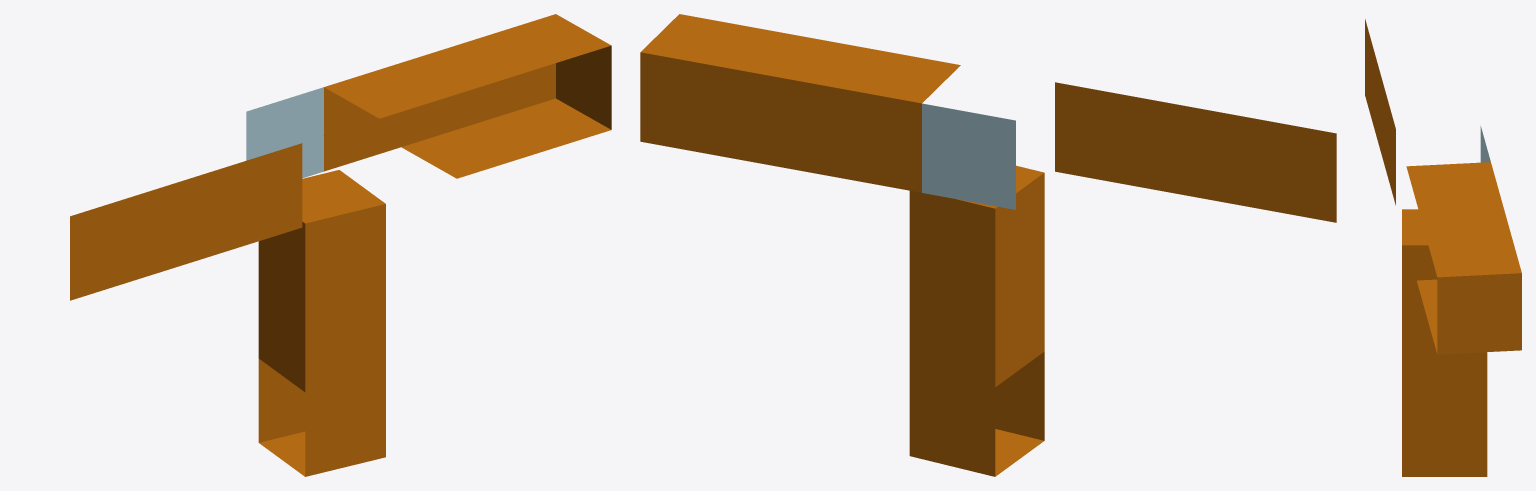
File: test_animation.obj
3 views of the same model, side by side, from view 1: azimuth 30°, elevation 25°; view 2: azimuth 150°, elevation 25°; view 3: azimuth 270°, elevation 25° (orthographic). The views are drawn at different scales.
Visible parts, largest first — view 1: cube; view 2: cube; view 3: cube.
Part boxes in pixels (x1,y1,x2,y2): cube: (70, 14, 611, 476); cube: (640, 14, 1336, 476); cube: (1365, 19, 1521, 476).
Size of the model in its own units: 0.4573 by 0.25 by 0.1151.
